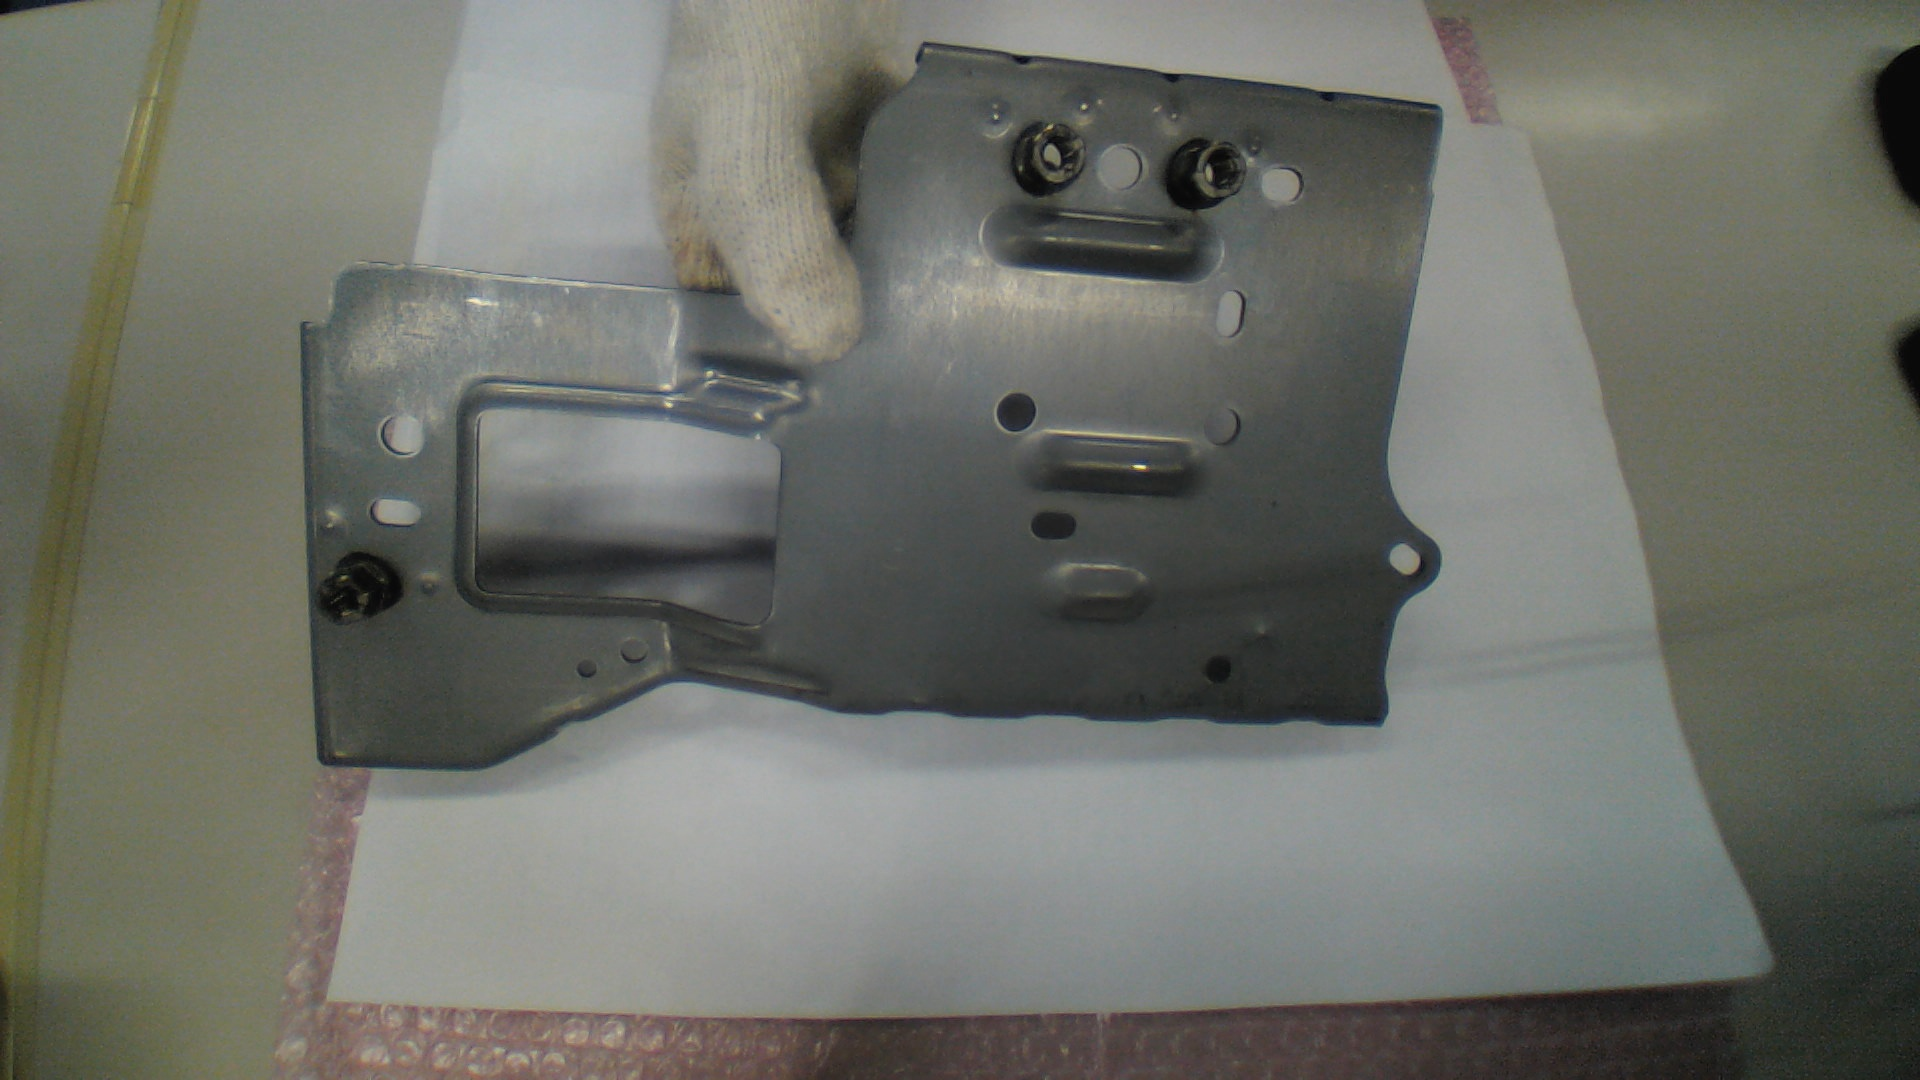dog: (1166, 135, 1249, 212), (313, 555, 405, 625), (1013, 120, 1088, 196)
